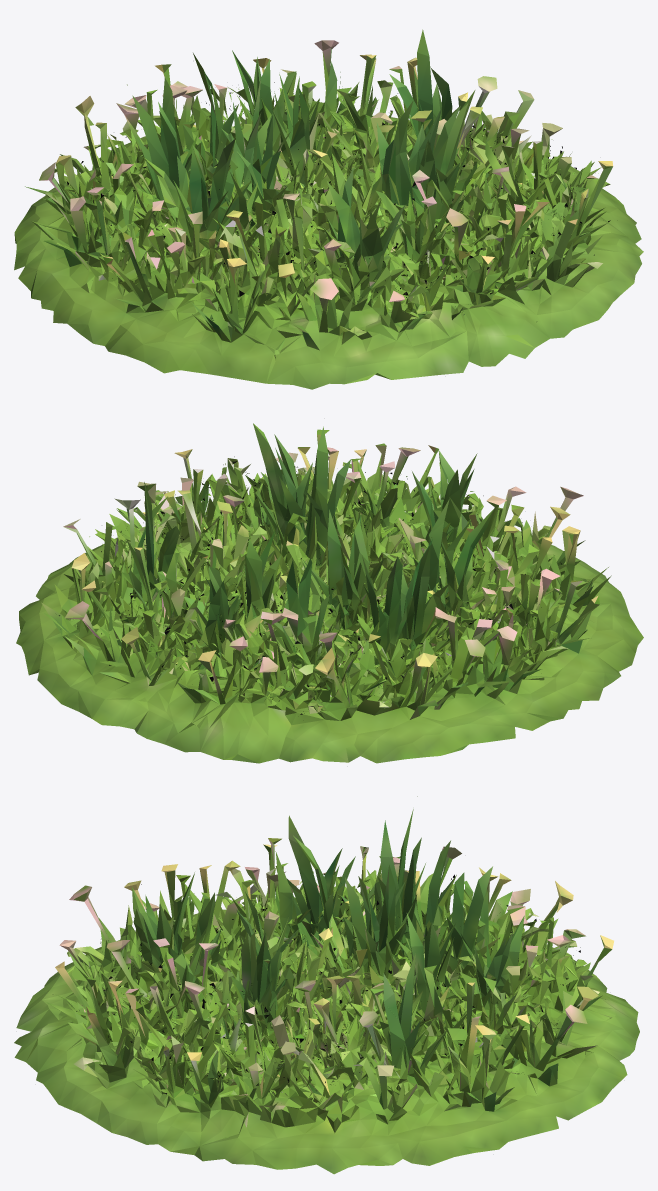
Rendered from Isle_of_Spring.fbx.
3 renders of one model, top to bottom at view 1: azimuth 30°, elevation 25°; view 2: azimuth 150°, elevation 25°; view 3: azimuth 270°, elevation 25°, orthographic. The views are drawn at different scales.
Parts seen in each view (by area): view 1: Isle_of_Spring_LOD0; view 2: Isle_of_Spring_LOD0; view 3: Isle_of_Spring_LOD0.
Boxes of the visible parts, x1=… form: Isle_of_Spring_LOD0: x1=14, y1=29, x2=643, y2=389; Isle_of_Spring_LOD0: x1=16, y1=423, x2=643, y2=763; Isle_of_Spring_LOD0: x1=14, y1=796, x2=639, y2=1174.
Size of what is drawn, in the model's own units: 1.88 by 0.5942 by 1.87.
Materials: 1 (1 with a texture image).
